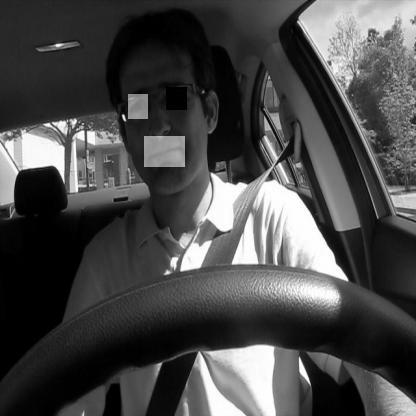seatbelt: (84, 14, 304, 416)
